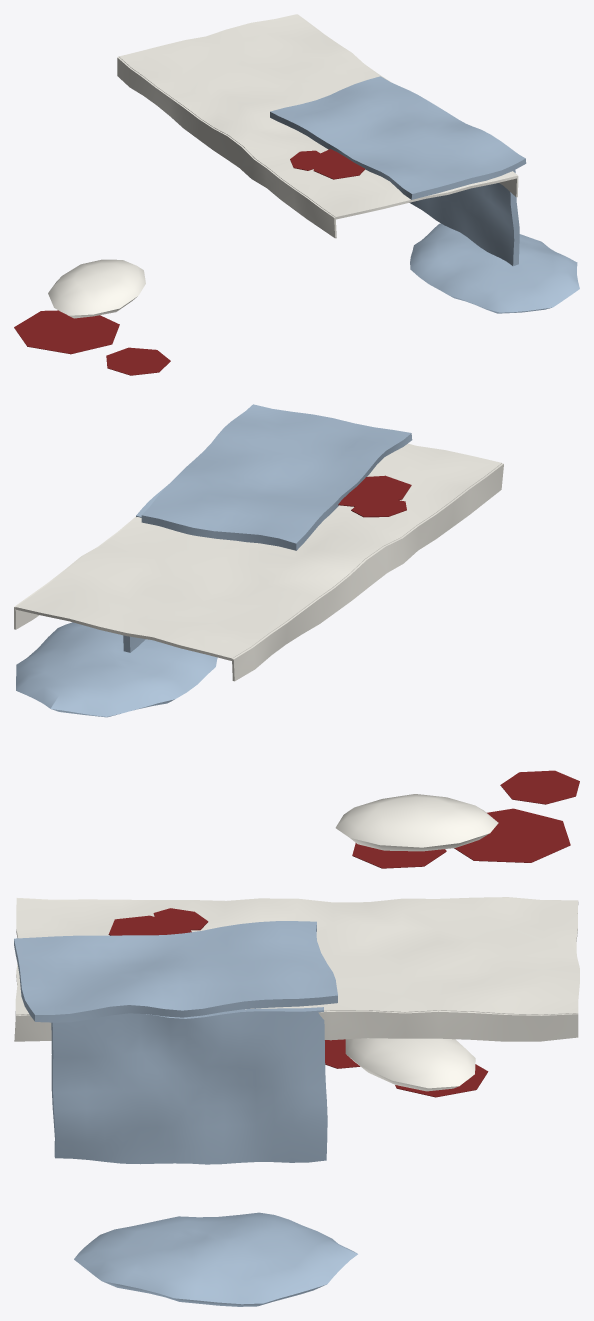
The model's file is bedding_broken.fbx.
The picture shows the model from 3 angles, top to bottom: view 1: azimuth 30°, elevation 25°; view 2: azimuth 150°, elevation 25°; view 3: azimuth 270°, elevation 25°; orthographic projection. The views are drawn at different scales.
Visible parts, largest first — view 1: bedding_broken, bedding_broken_debris; view 2: bedding_broken, bedding_broken_debris; view 3: bedding_broken, bedding_broken_debris.
Boxes of the visible parts, x1,y1,x2,y2 form: bedding_broken: [48, 14, 579, 318]; bedding_broken_debris: [14, 310, 170, 375]; bedding_broken: [14, 404, 503, 851]; bedding_broken_debris: [352, 770, 579, 868]; bedding_broken: [14, 897, 579, 1306]; bedding_broken_debris: [325, 1039, 488, 1097].
Bounding box in the file's own units: 253 × 95.21 × 200.
